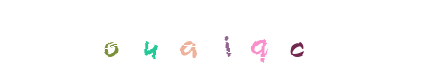A: (175, 0, 255, 80)
C: (257, 0, 337, 80)
I: (186, 0, 266, 80)
O: (71, 0, 151, 80)
Q: (206, 0, 286, 80)
U: (110, 0, 190, 80)
